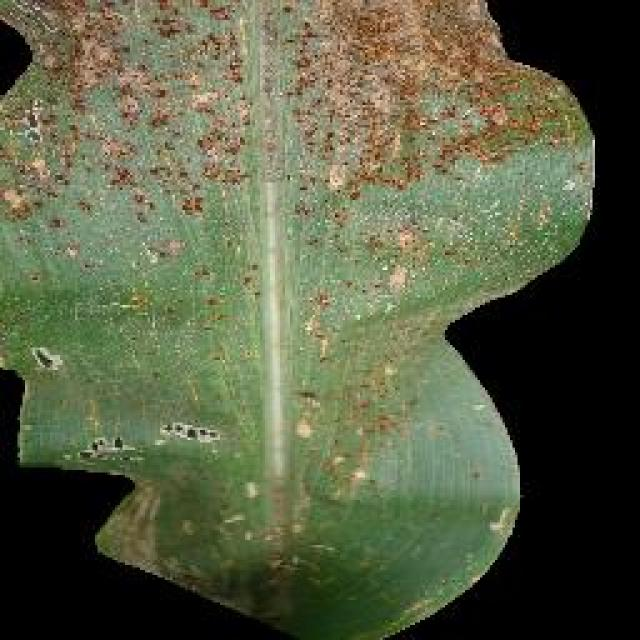Corn Common Rust: (55, 32, 498, 310)
